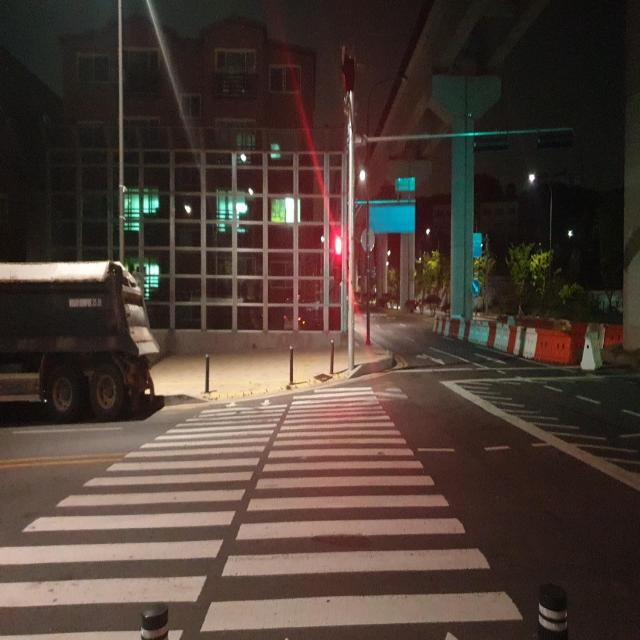빨간불: (329, 228, 349, 279)
횡단보도: (0, 385, 528, 637)
